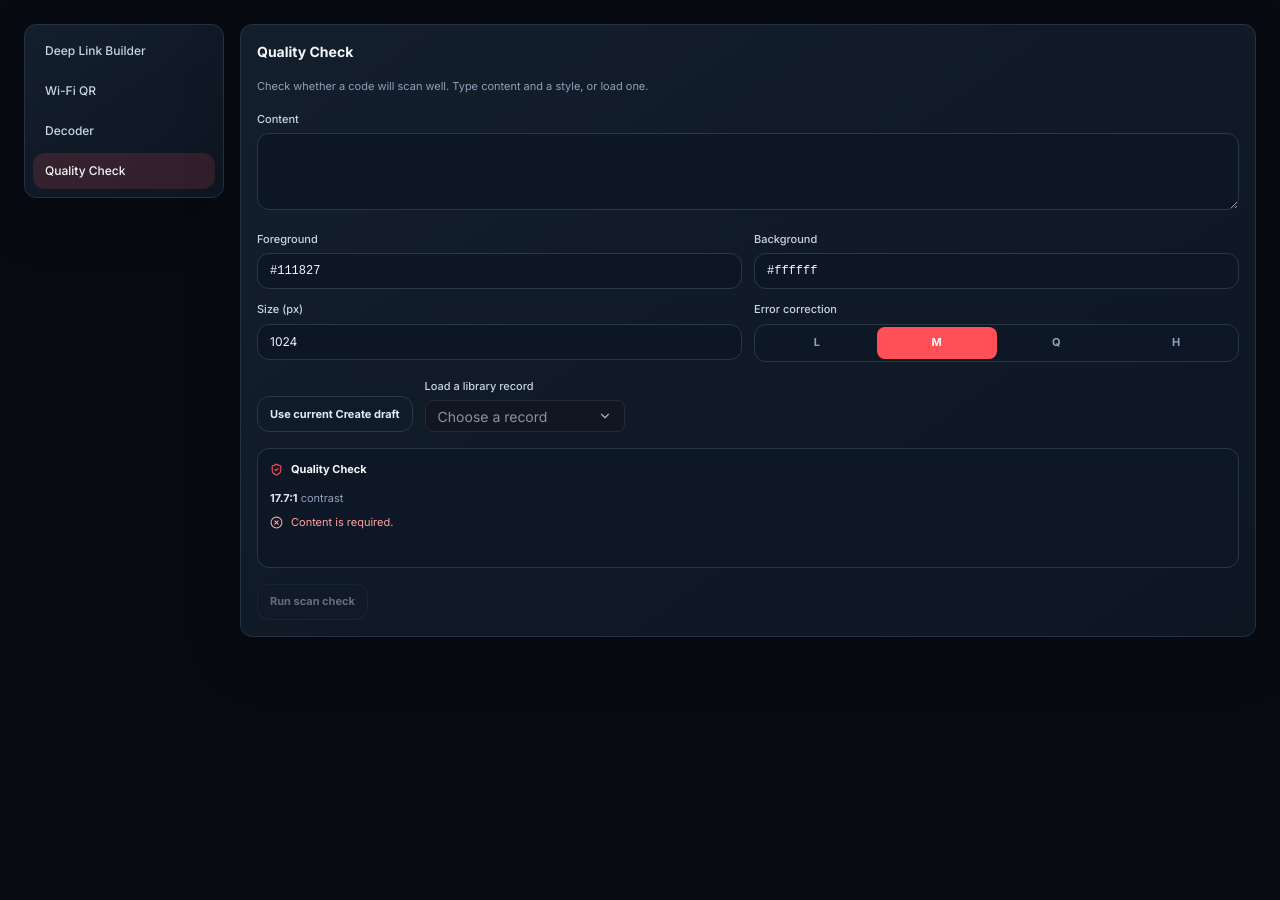
QR Quality Checker › runs the round trip and reports a verified scan
Type "https://example.com" into the text box labelled "Content".
click(748, 171); type("https://example.com")  # box [257, 133, 1239, 210]
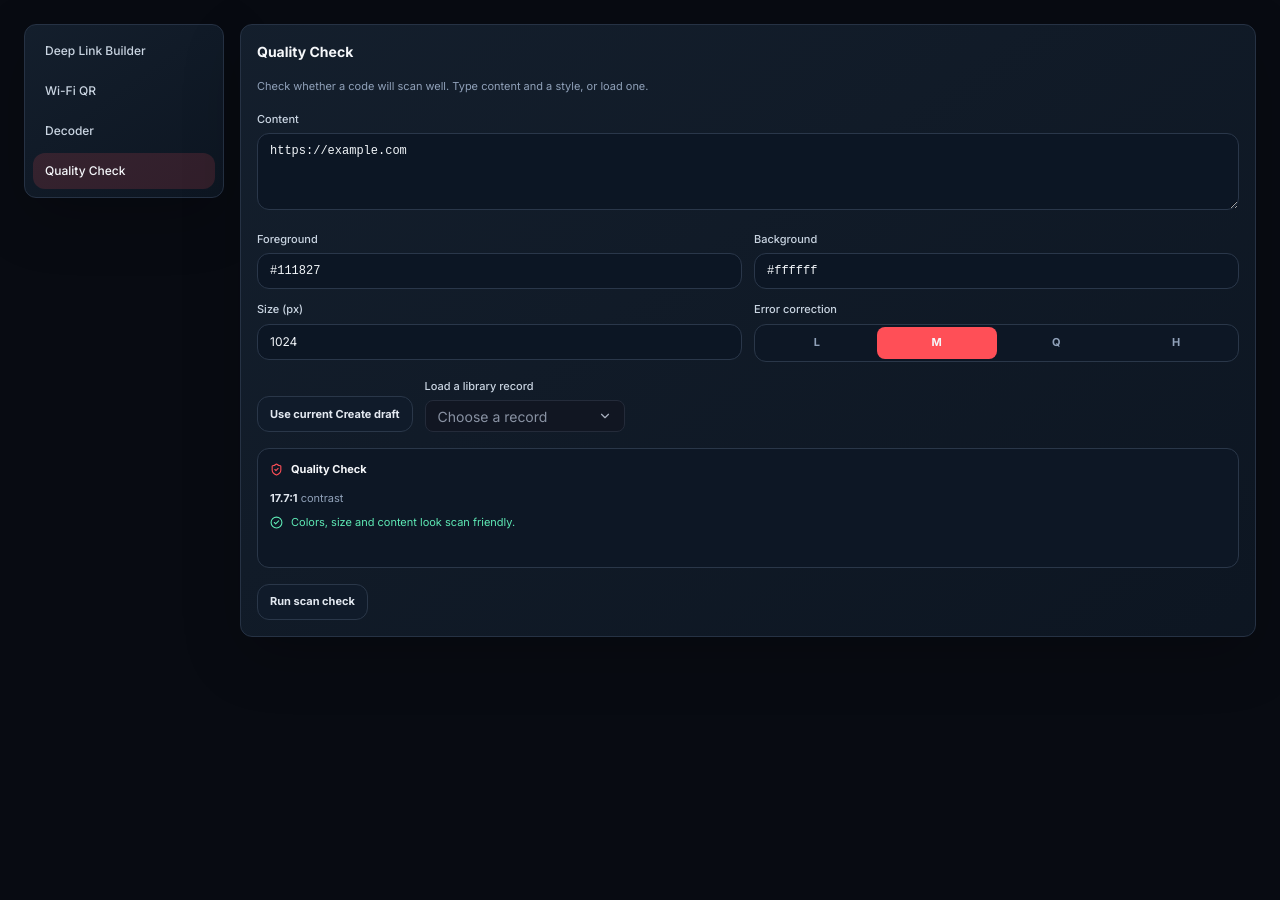
Click the button "Run scan check".
click(312, 602)  # box [257, 584, 368, 620]
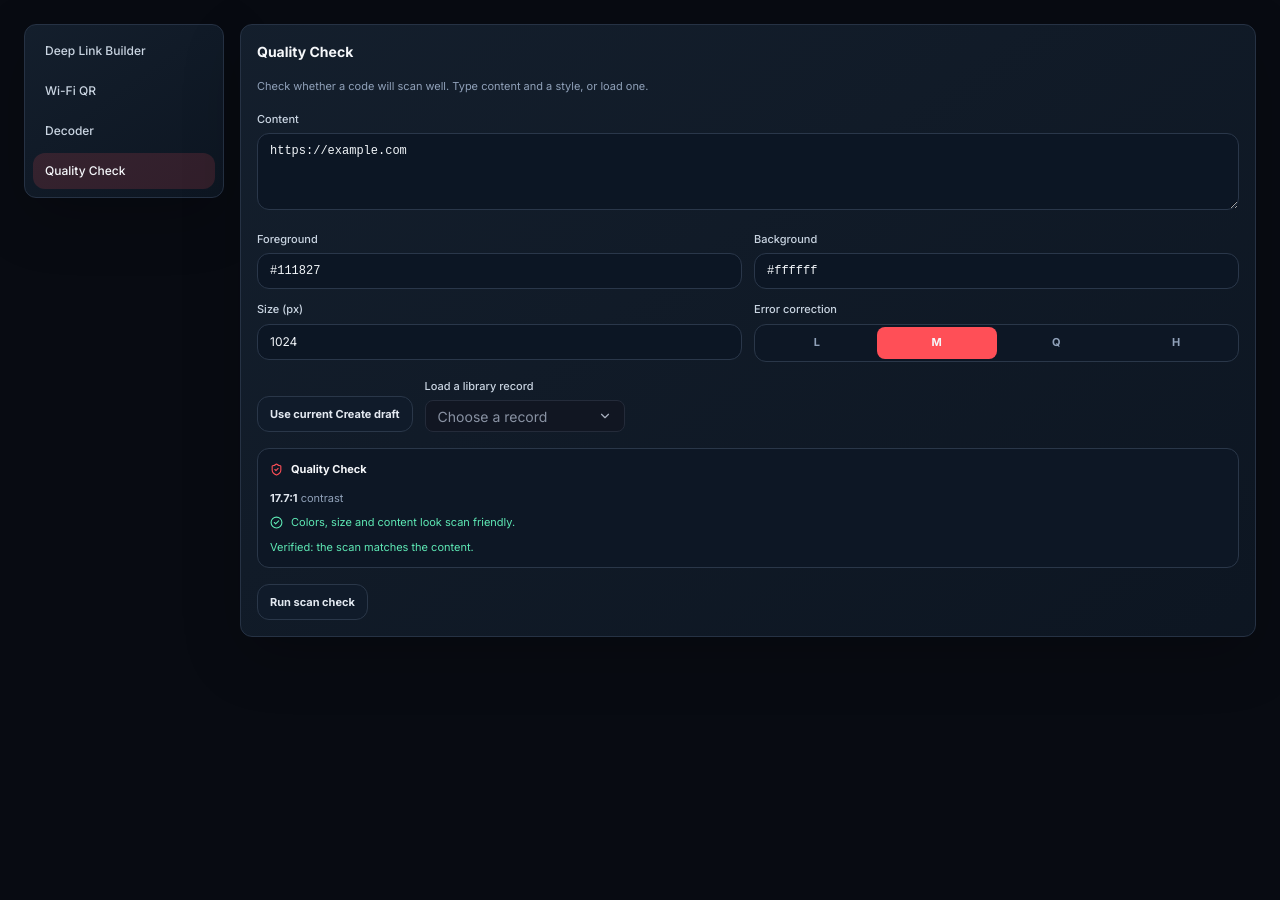
Result: the text "Verified: the scan matches the content." is shown at [270, 540, 474, 554]
Replace the text in the text box labelled "Content" with "https://example.com/other" at (748, 171), box [257, 133, 1239, 210]
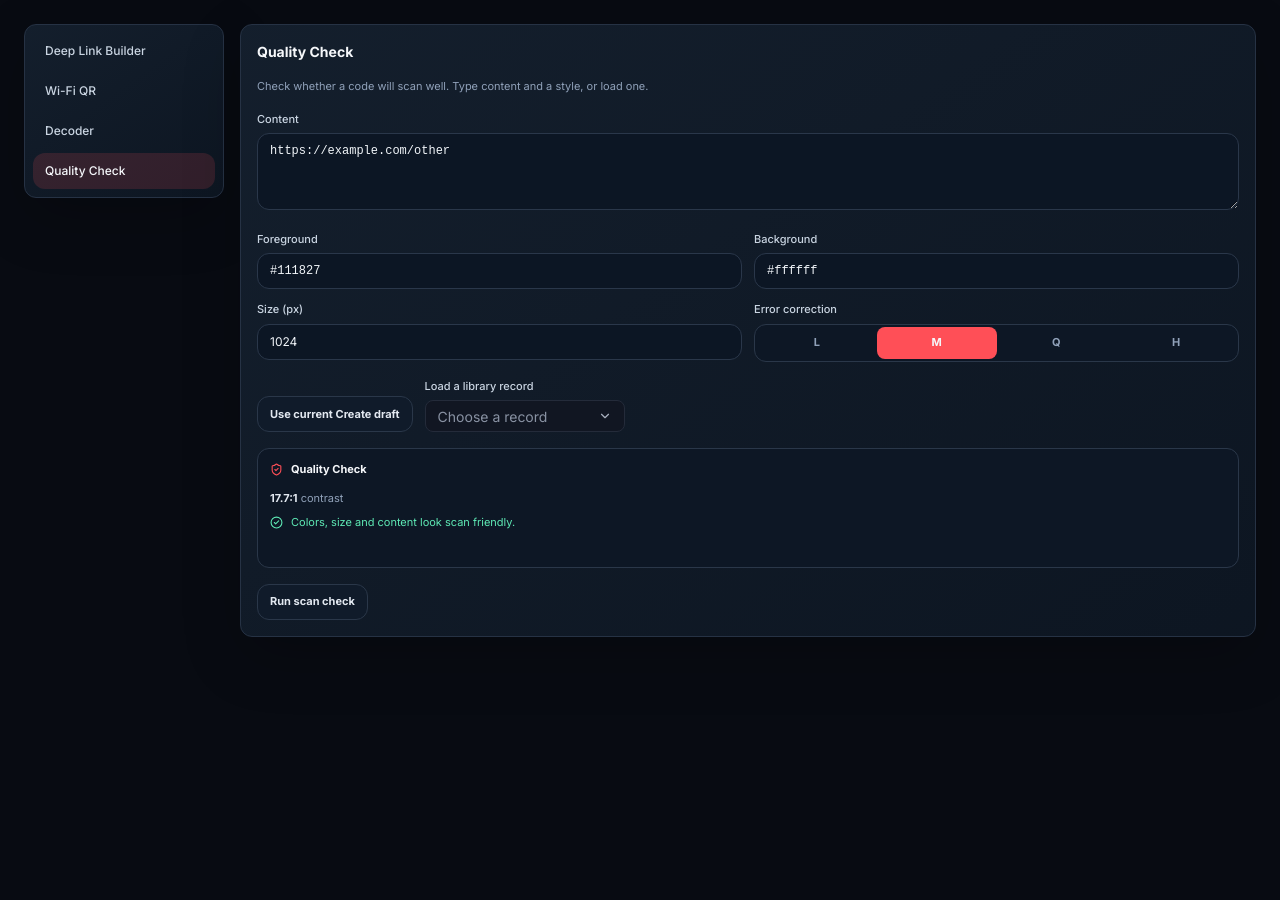
Result: the text "Verified: the scan matches" is gone
